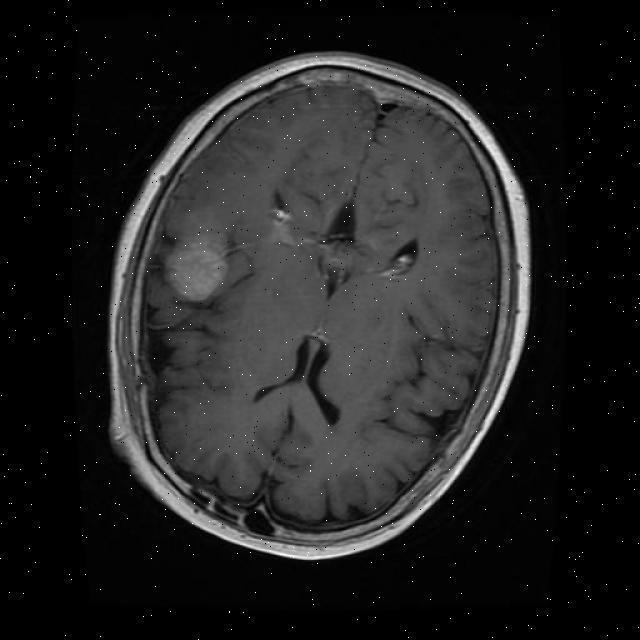Meningioma: (165, 236, 227, 302)
